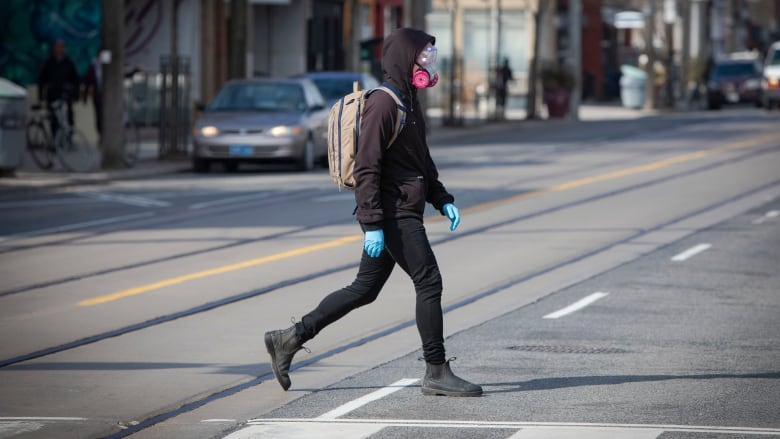pedestrian: (262, 1, 504, 424)
